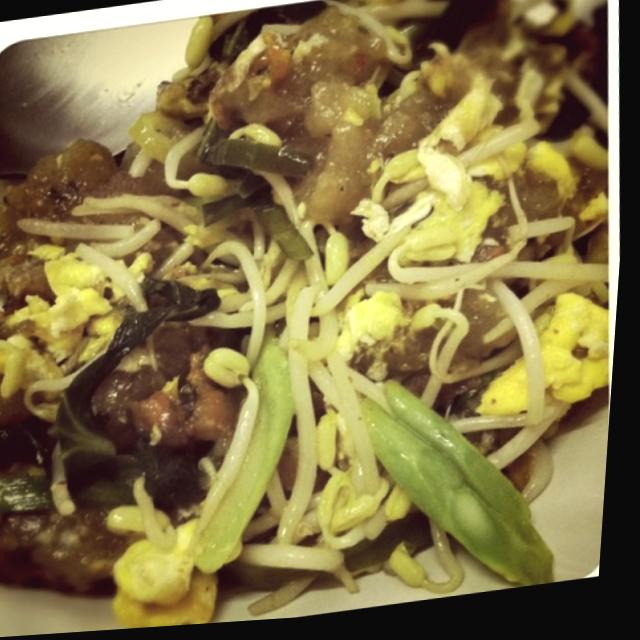炸货点心: (0, 0, 622, 639)
蛋糕甜品: (0, 0, 622, 639)
